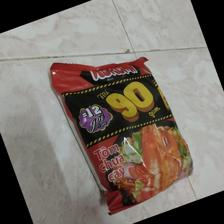Kokomi: (50, 57, 195, 217)
